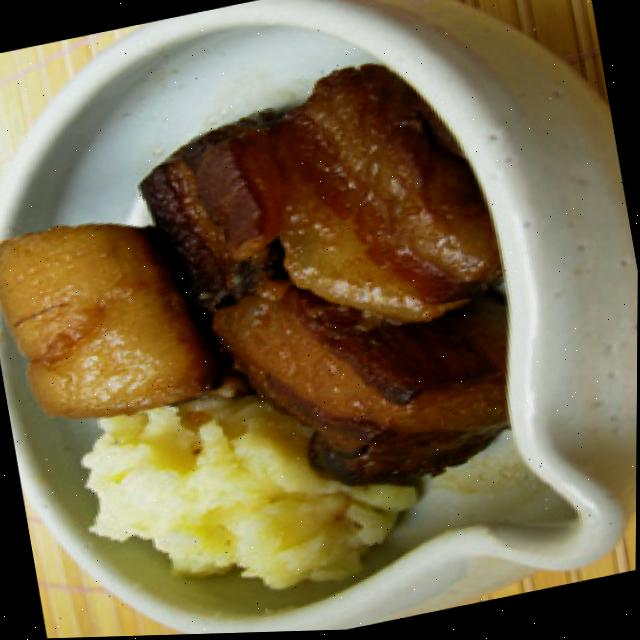猪肉菜式: (0, 25, 578, 640)
